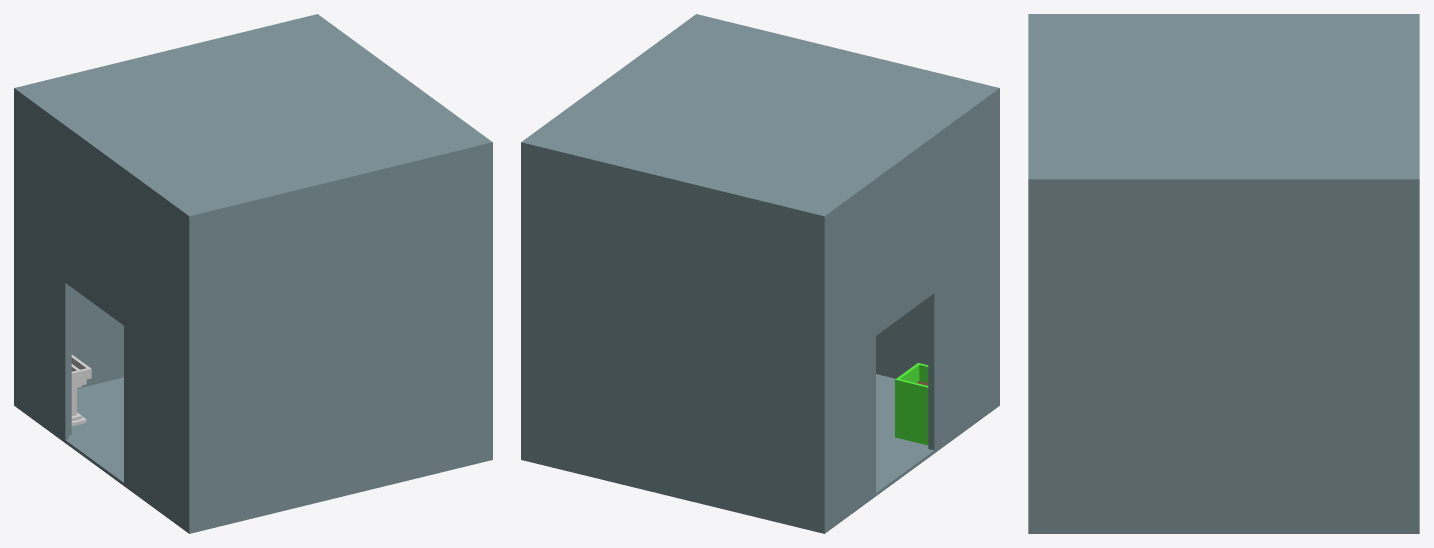
File: Toilet.obj
3 views of the same model, side by side, from view 1: azimuth 30°, elevation 25°; view 2: azimuth 150°, elevation 25°; view 3: azimuth 270°, elevation 25° (orthographic). The views are drawn at different scales.
Size of the model in its own units: 9.9 by 9.9 by 9.9.
Materials: 1 (1 with a texture image).
